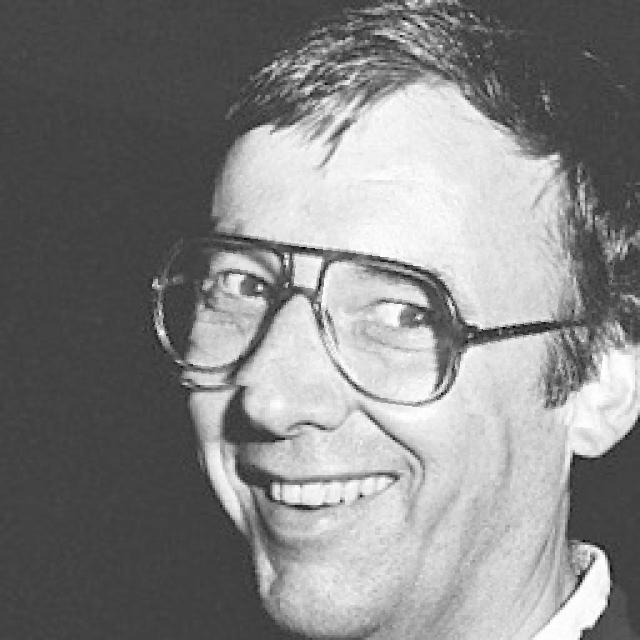glasses: (126, 221, 610, 414)
